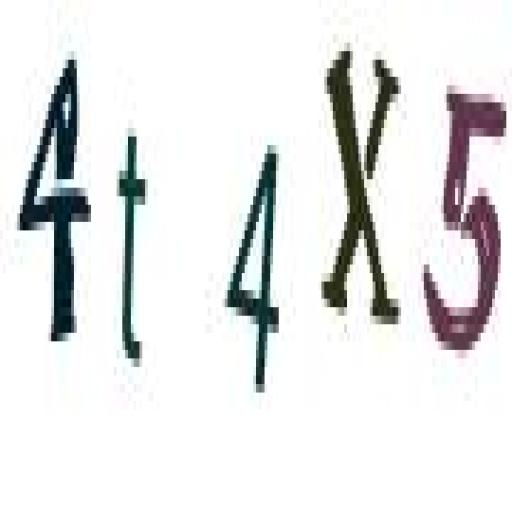4: (16, 31, 94, 374), (223, 110, 283, 408)
5: (421, 56, 509, 367)
X: (318, 23, 405, 350)
t: (115, 114, 153, 390)
